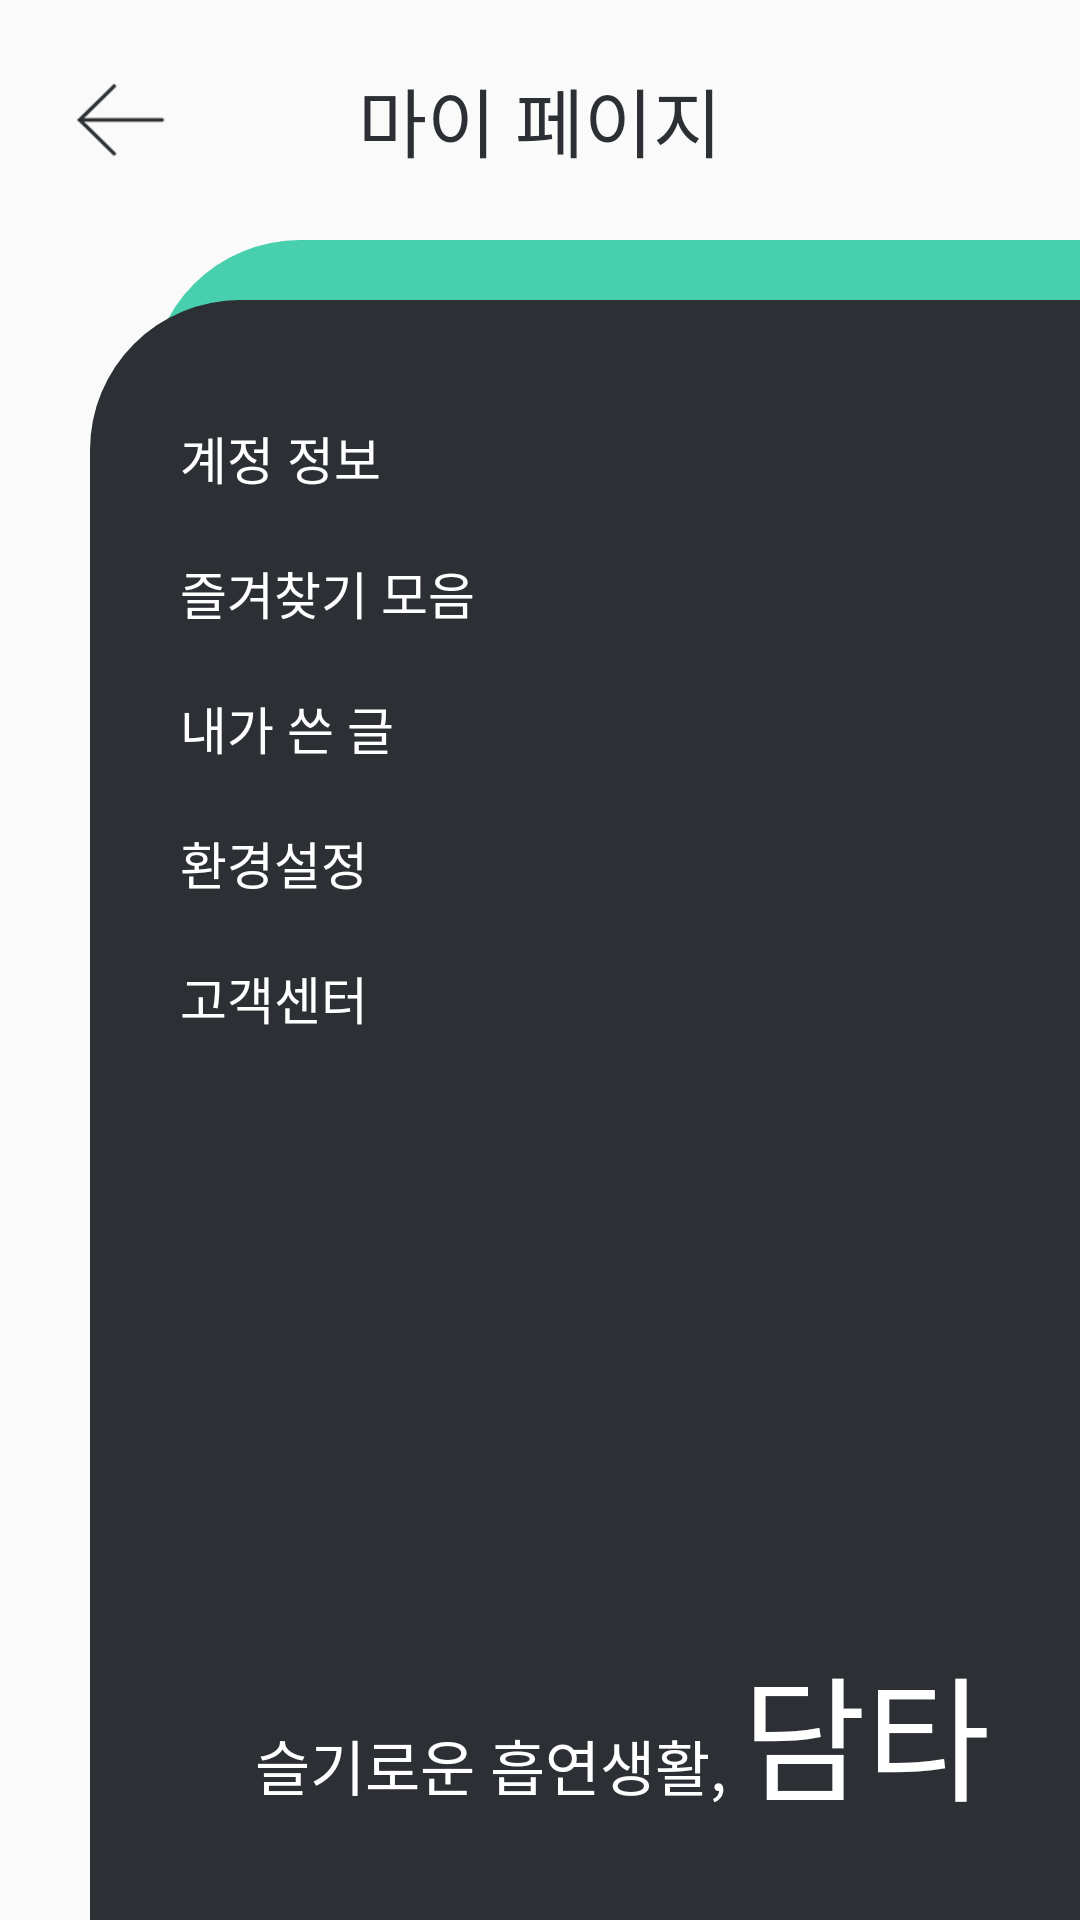

Locate icon controls on the screen. Image size 1080*1920, boxes as box=[x1, y1, x2, y2].
back arrow: box=[77, 84, 165, 156]
